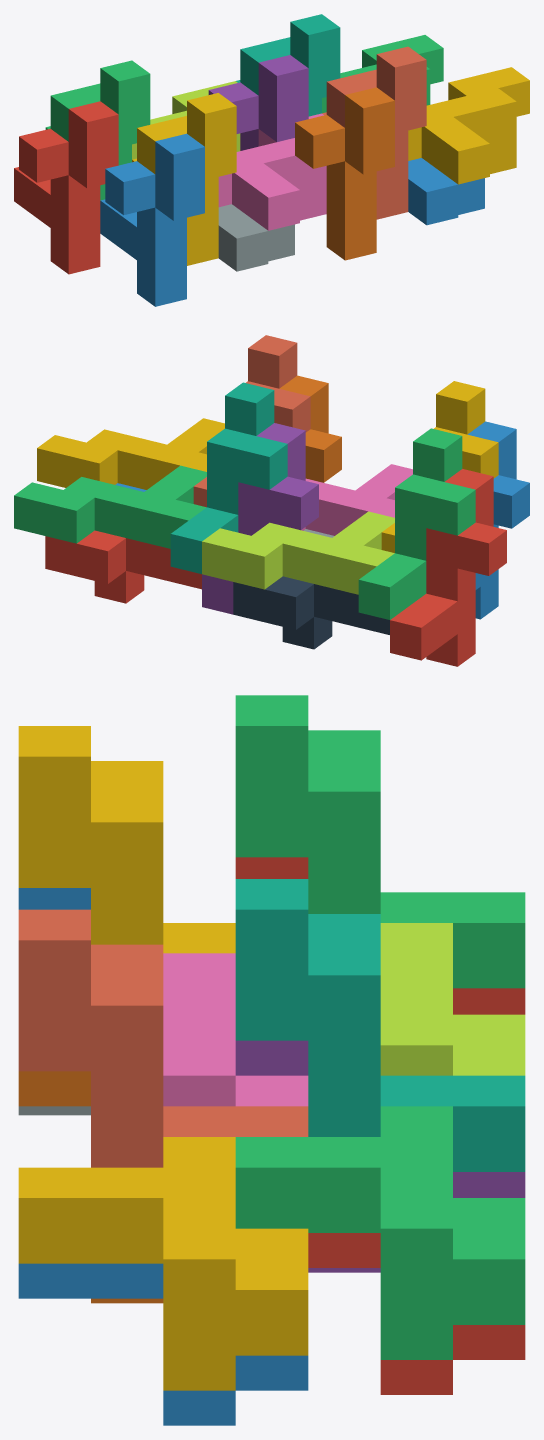
Rendered from tiling.obj.
3 views of the same model, one above another, from view 1: azimuth 30°, elevation 25°; view 2: azimuth 150°, elevation 25°; view 3: azimuth 270°, elevation 25° (orthographic). The views are drawn at different scales.
Parts seen in each view (by area): view 1: copy_1_domain_2, copy_1_domain_1, copy_1_domain_6, copy_2_domain_8, copy_2_domain_4, copy_1_domain_8, copy_1_domain_4, copy_1_domain_5, copy_1_domain_3, copy_1_domain_7, copy_2_domain_2, copy_2_domain_6 (+2 smaller); view 2: copy_1_domain_1, copy_1_domain_3, copy_2_domain_3, copy_2_domain_7, copy_1_domain_7, copy_2_domain_8, copy_2_domain_1, copy_2_domain_5, copy_1_domain_5, copy_1_domain_2, copy_1_domain_8, copy_1_domain_4 (+2 smaller); view 3: copy_2_domain_8, copy_2_domain_7, copy_1_domain_7, copy_1_domain_3, copy_1_domain_8, copy_1_domain_4, copy_2_domain_3, copy_2_domain_4, copy_2_domain_6, copy_2_domain_5, copy_1_domain_5, copy_1_domain_1 (+2 smaller).
Part boxes in pixels (x1=…): copy_1_domain_2: x1=100, y1=133, x2=204, y2=306; copy_1_domain_1: x1=14, y1=101, x2=118, y2=274; copy_1_domain_6: x1=295, y1=87, x2=394, y2=260; copy_2_domain_8: x1=408, y1=67, x2=529, y2=184; copy_2_domain_4: x1=218, y1=113, x2=326, y2=230; copy_1_domain_8: x1=322, y1=46, x2=426, y2=219; copy_1_domain_4: x1=132, y1=93, x2=236, y2=265; copy_1_domain_5: x1=208, y1=55, x2=308, y2=150; copy_1_domain_3: x1=45, y1=60, x2=150, y2=200; copy_1_domain_7: x1=236, y1=14, x2=340, y2=116; copy_2_domain_2: x1=218, y1=204, x2=294, y2=271; copy_2_domain_6: x1=408, y1=158, x2=484, y2=225; copy_1_domain_1: x1=390, y1=469, x2=506, y2=666; copy_1_domain_3: x1=358, y1=428, x2=475, y2=619; copy_2_domain_3: x1=202, y1=511, x2=394, y2=594; copy_2_domain_7: x1=14, y1=465, x2=206, y2=548; copy_1_domain_7: x1=170, y1=382, x2=287, y2=573; copy_2_domain_8: x1=37, y1=418, x2=224, y2=489; copy_2_domain_1: x1=233, y1=576, x2=389, y2=649; copy_2_domain_5: x1=45, y1=530, x2=201, y2=603; copy_1_domain_5: x1=202, y1=423, x2=318, y2=614; copy_1_domain_2: x1=468, y1=421, x2=529, y2=619; copy_1_domain_8: x1=193, y1=335, x2=310, y2=507; copy_1_domain_4: x1=381, y1=381, x2=498, y2=552; copy_2_domain_8: x1=18, y1=1137, x2=308, y2=1390; copy_2_domain_7: x1=235, y1=1106, x2=525, y2=1359; copy_1_domain_7: x1=235, y1=879, x2=525, y2=1171; copy_1_domain_3: x1=235, y1=695, x2=525, y2=988; copy_1_domain_8: x1=18, y1=909, x2=308, y2=1167; copy_1_domain_4: x1=18, y1=726, x2=235, y2=953; copy_2_domain_3: x1=380, y1=923, x2=525, y2=1075; copy_2_domain_4: x1=163, y1=953, x2=308, y2=1106; copy_2_domain_6: x1=18, y1=1263, x2=308, y2=1425; copy_2_domain_5: x1=308, y1=1233, x2=525, y2=1394; copy_1_domain_5: x1=235, y1=1040, x2=525, y2=1272; copy_1_domain_1: x1=235, y1=857, x2=525, y2=1014.
Bounding box in the file's own units: 15 × 6 × 7.
